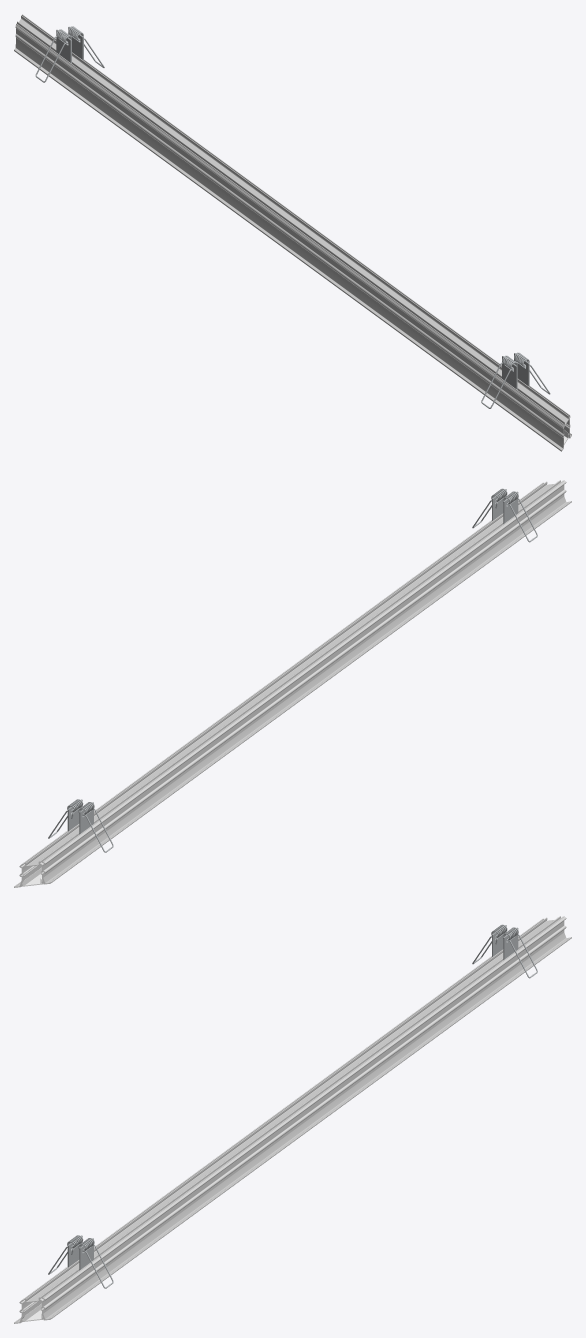
File: Fit15StandardEmbutido-corte-45.glb
3 renders of one model, top to bottom at view 1: azimuth 30°, elevation 25°; view 2: azimuth 150°, elevation 25°; view 3: azimuth 330°, elevation 25°, orthographic. The views are drawn at different scales.
Parts seen in each view (by area): view 1: 3DGeom-1; view 2: 3DGeom-1; view 3: 3DGeom-1.
Boxes of the visible parts, x1,y1,x2,y2 form: 3DGeom-1: (14,14,571,451); 3DGeom-1: (14,480,571,887); 3DGeom-1: (14,916,571,1323).
Bounding box in the file's own units: 0.0621 × 0.0478 × 0.99.
3 materials, 1 textured.
